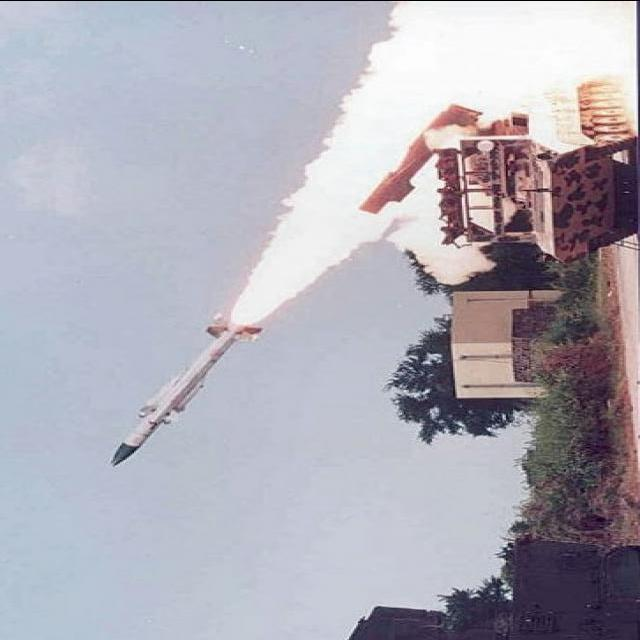missile: (103, 314, 274, 476)
